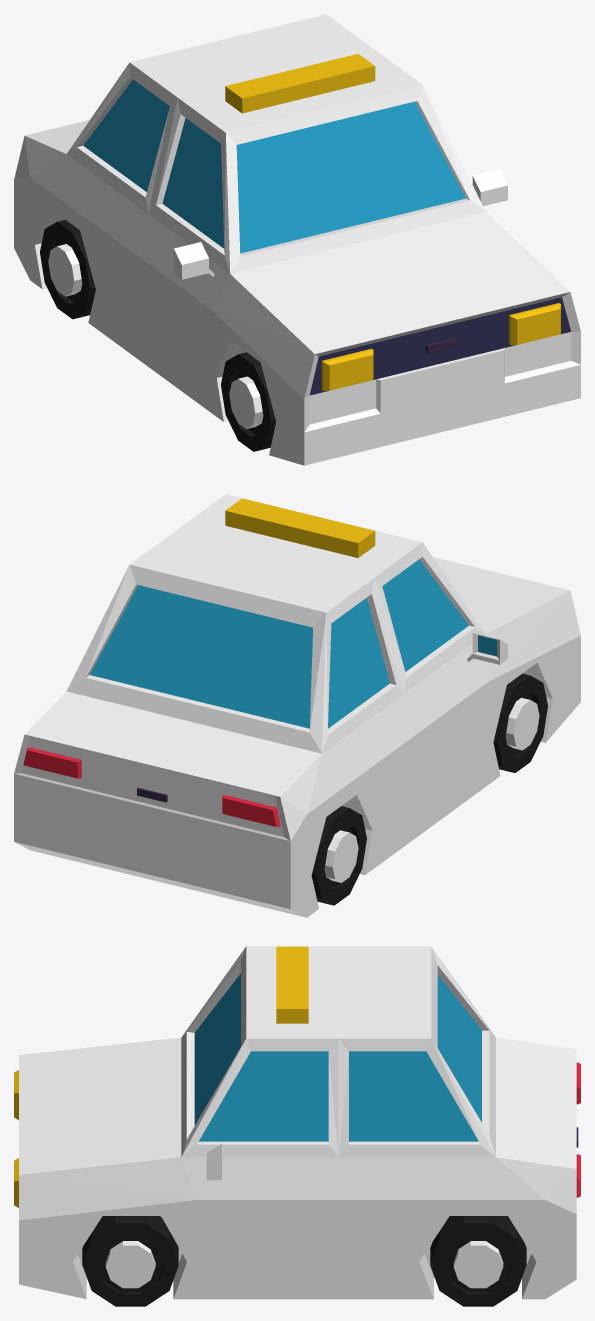
Rendered from taxi.obj.
3 renders of one model, top to bottom at view 1: azimuth 30°, elevation 25°; view 2: azimuth 150°, elevation 25°; view 3: azimuth 270°, elevation 25°, orthographic. The views are drawn at different scales.
Visible parts, largest first — view 1: taxi_Cube.011; view 2: taxi_Cube.011; view 3: taxi_Cube.011.
Part boxes in pixels (left/top/right/bottom): taxi_Cube.011: left=14, top=14, right=580, bottom=465; taxi_Cube.011: left=14, top=494, right=580, bottom=917; taxi_Cube.011: left=14, top=946, right=580, bottom=1306.
Size of the model in its own units: 4.54 by 3.66 by 7.12.
